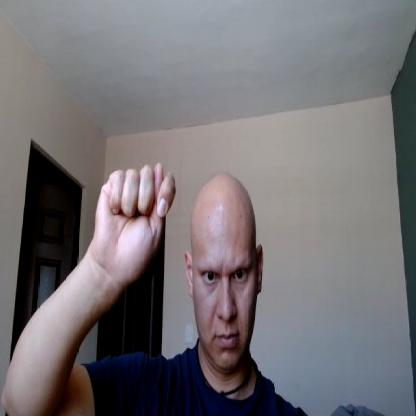T: (92, 161, 179, 282)
